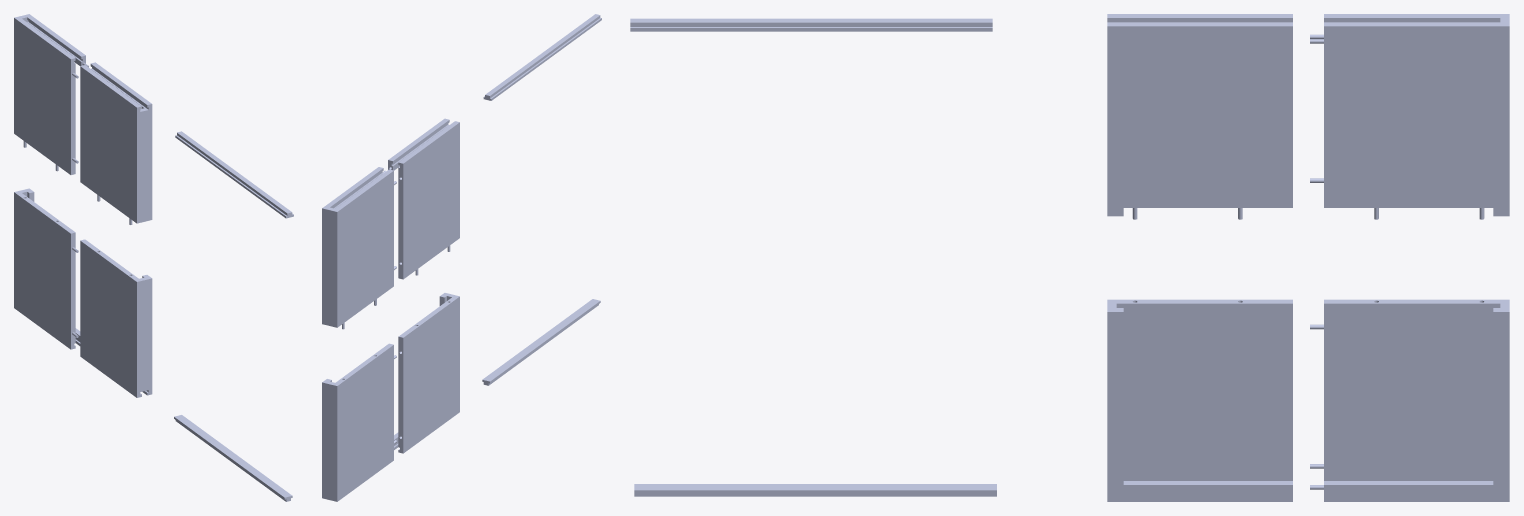
Rendered from Full_CD_Display_Case_Assembly.gltf.
3 views of the same model, side by side, from view 1: azimuth 30°, elevation 25°; view 2: azimuth 150°, elevation 25°; view 3: azimuth 270°, elevation 25° (orthographic). The views are drawn at different scales.
Visible parts, largest first — view 1: Top Right Half-1, Top Left Half-1, Bottom Right Half-1, Bottom Left Half-1, Pin_Side_Piece-2, Pin_Side_Piece-1, Hole_Side_Piece-1, Hole_Side_Piece-2; view 2: Bottom Right Half-1, Bottom Left Half-1, Top Right Half-1, Top Left Half-1, Hole_Side_Piece-1, Hole_Side_Piece-2, Pin_Side_Piece-2, Pin_Side_Piece-1; view 3: Bottom Left Half-1, Top Left Half-1, Bottom Right Half-1, Top Right Half-1, Hole_Side_Piece-2, Pin_Side_Piece-2, Hole_Side_Piece-1, Pin_Side_Piece-1.
Part boxes in pixels (x1=…): Top Right Half-1: x1=80, y1=62, x2=152, y2=224; Top Left Half-1: x1=80, y1=239, x2=152, y2=397; Bottom Right Half-1: x1=14, y1=14, x2=88, y2=174; Bottom Left Half-1: x1=14, y1=188, x2=80, y2=349; Pin_Side_Piece-2: x1=230, y1=172, x2=293, y2=218; Pin_Side_Piece-1: x1=229, y1=455, x2=292, y2=501; Hole_Side_Piece-1: x1=174, y1=415, x2=236, y2=461; Hole_Side_Piece-2: x1=175, y1=131, x2=236, y2=177; Bottom Right Half-1: x1=322, y1=167, x2=396, y2=329; Bottom Left Half-1: x1=322, y1=343, x2=396, y2=501; Top Right Half-1: x1=388, y1=118, x2=459, y2=279; Top Left Half-1: x1=394, y1=293, x2=459, y2=453; Hole_Side_Piece-1: x1=482, y1=339, x2=545, y2=385; Hole_Side_Piece-2: x1=483, y1=54, x2=546, y2=100; Pin_Side_Piece-2: x1=540, y1=14, x2=601, y2=60; Pin_Side_Piece-1: x1=538, y1=299, x2=600, y2=344; Bottom Left Half-1: x1=1310, y1=299, x2=1509, y2=501; Top Left Half-1: x1=1107, y1=299, x2=1292, y2=501; Bottom Right Half-1: x1=1310, y1=14, x2=1509, y2=219; Top Right Half-1: x1=1107, y1=14, x2=1292, y2=219; Hole_Side_Piece-2: x1=811, y1=18, x2=992, y2=31; Pin_Side_Piece-2: x1=630, y1=18, x2=811, y2=31; Hole_Side_Piece-1: x1=815, y1=484, x2=996, y2=496; Pin_Side_Piece-1: x1=634, y1=484, x2=815, y2=496.
Bounding box in the file's own units: 0.031 × 0.5633 × 0.9438.
